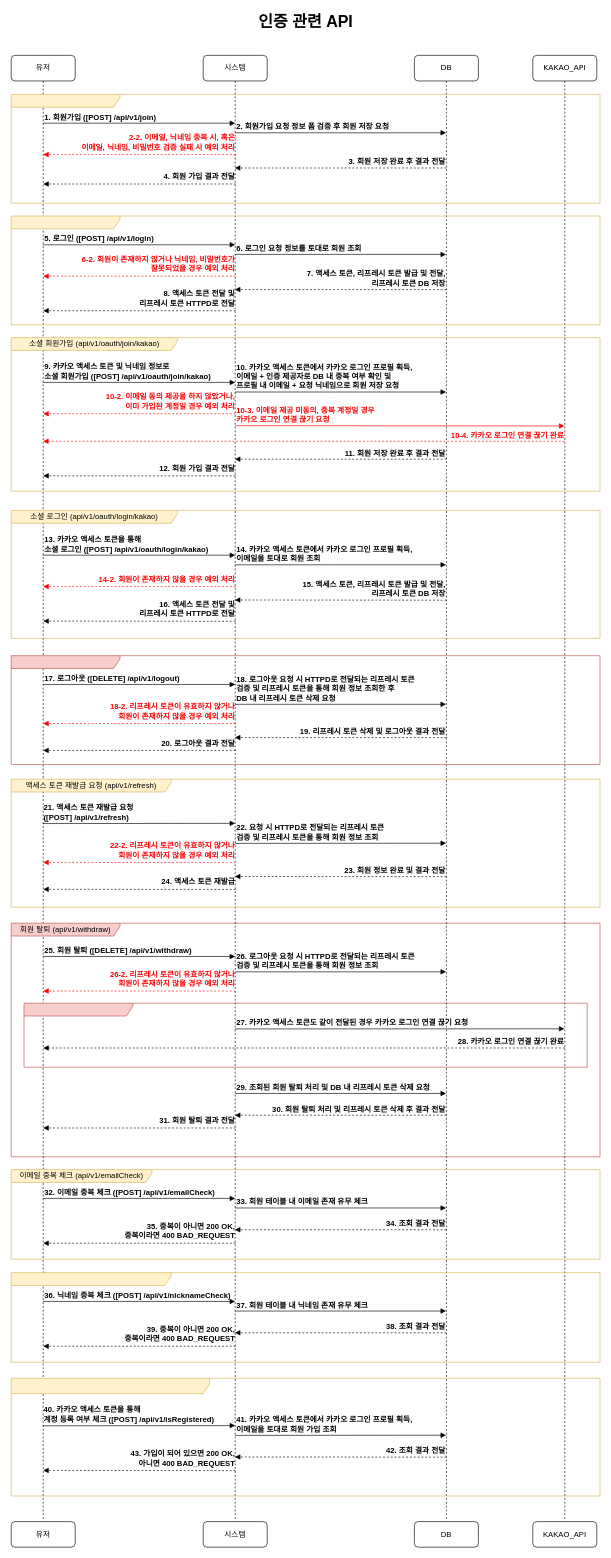
Image size: 611x1558. Some labels were removed from this diagram. The shapes that lost their labels are listed below. From the top down, each one's centre as x and y in pixels, then its label:
At point (305, 148): "회원가입 (/api/v1/join)".
At point (305, 270): "로그인 (api/v1/login)".
At point (305, 709): "로그아웃 (api/v1/logout)".
At point (305, 1035): "소셜 로그인 회원일 경우 추가".
At point (305, 1317): "닉네임 중복 체크 (api/v1/nicknameCheck)".
At point (305, 1437): "소셜 로그인 계정 가입 여부 체크 (api/v1/isRegistered)".
